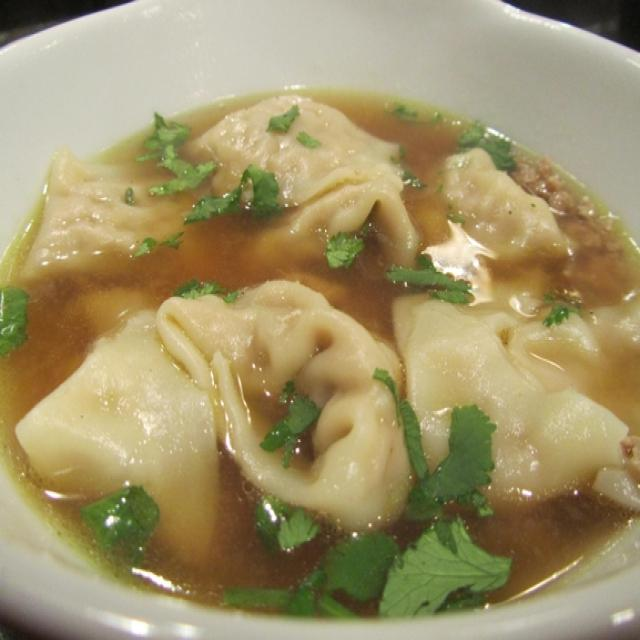汤锅炖物: (10, 48, 619, 610)
